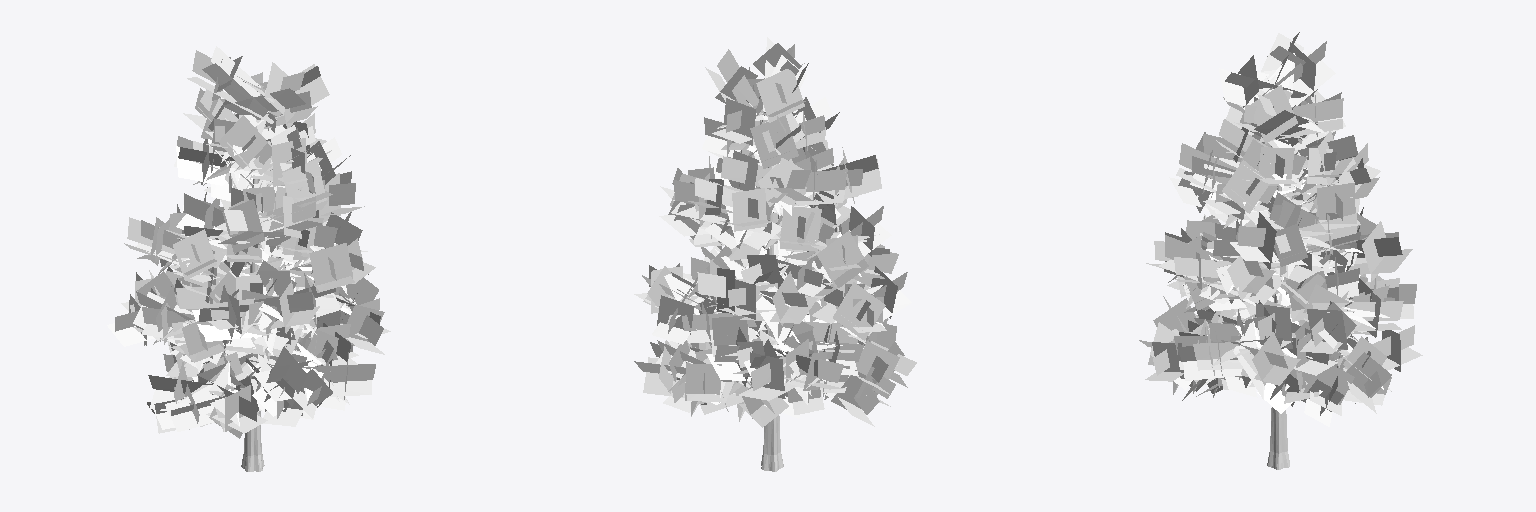
File: tree_obj.obj
3 renders of one model, left to right at view 1: azimuth 30°, elevation 25°; view 2: azimuth 150°, elevation 25°; view 3: azimuth 270°, elevation 25°, orthographic.
Parts seen in each view (by area): view 1: tree; view 2: tree; view 3: tree.
Boxes of the visible parts, x1=… form: tree: x1=107, y1=46, x2=390, y2=471; tree: x1=634, y1=37, x2=916, y2=471; tree: x1=1139, y1=32, x2=1422, y2=469.
Bounding box in the file's own units: 5.61 × 9.61 × 5.92.